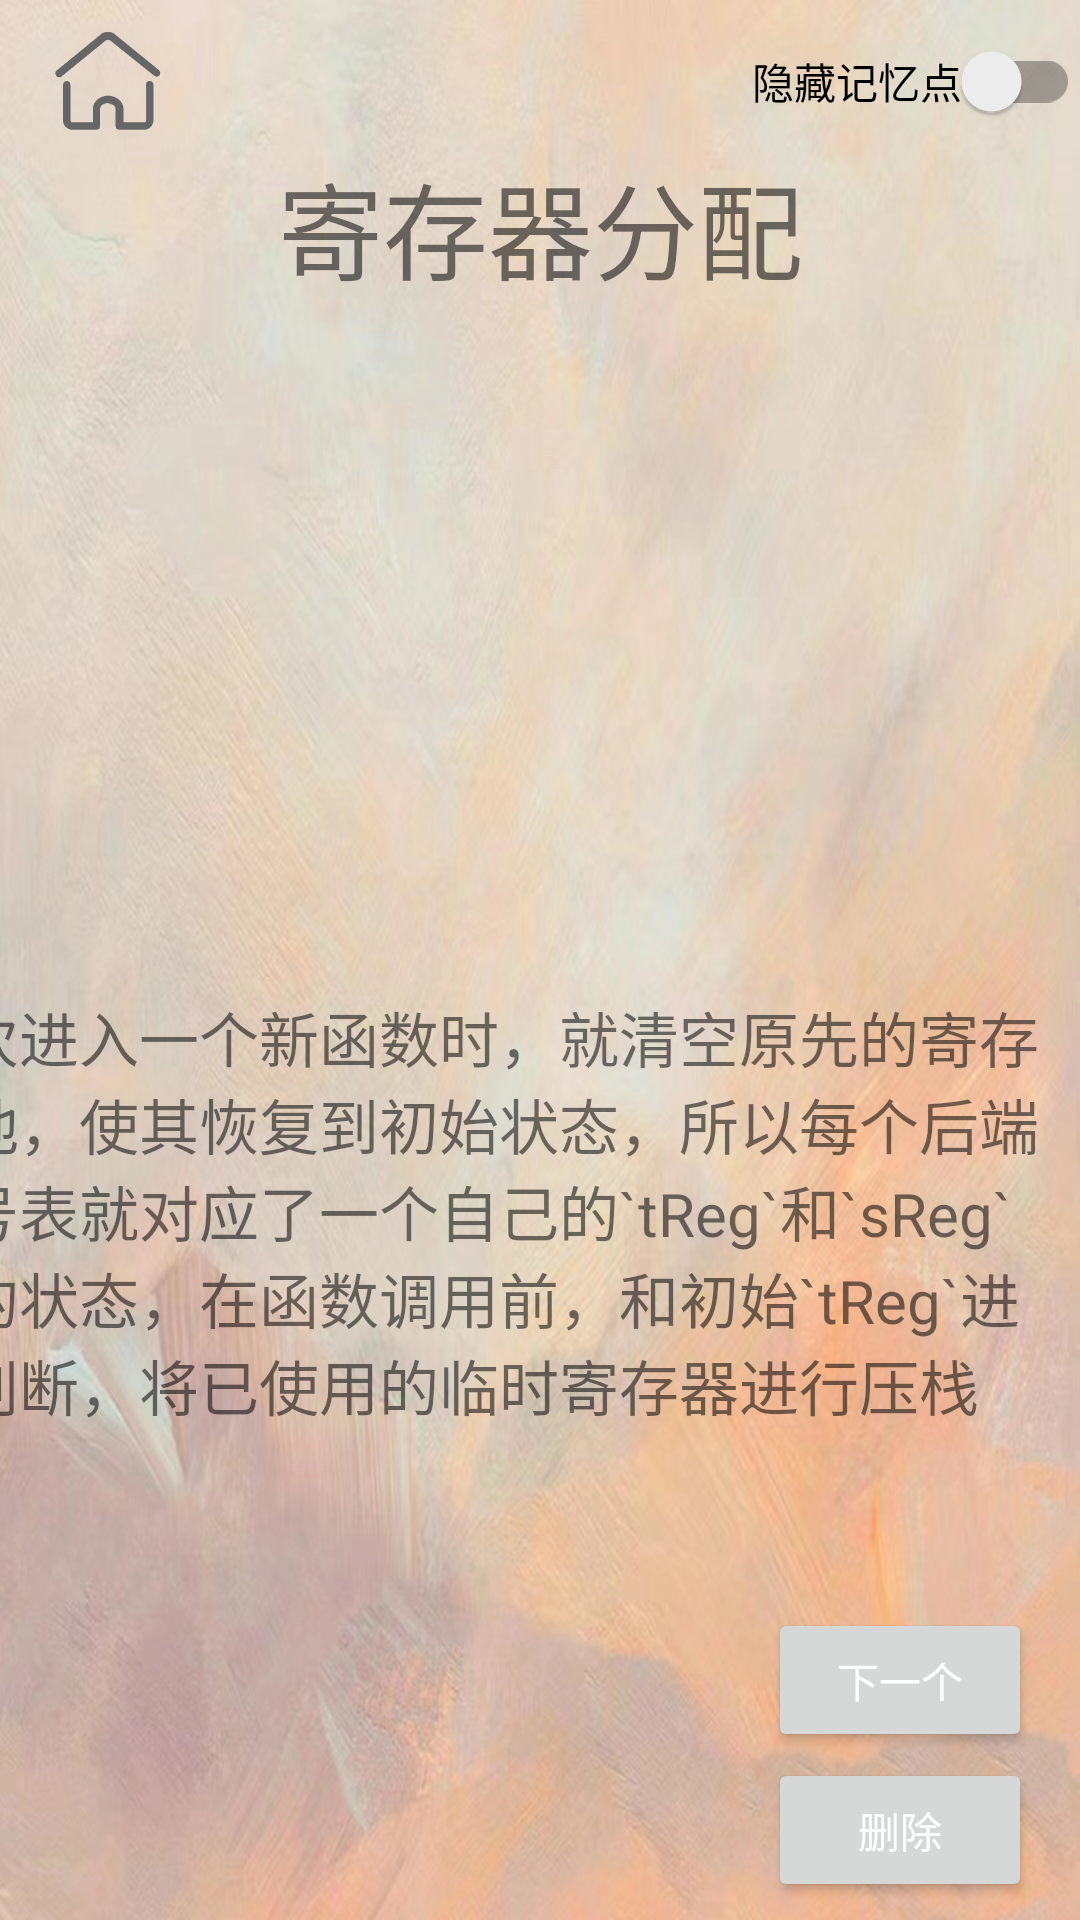

Icon click points for this 1080w x 1920h phone screenshot, format (x=x, y=y):
home: (x=107, y=81)
